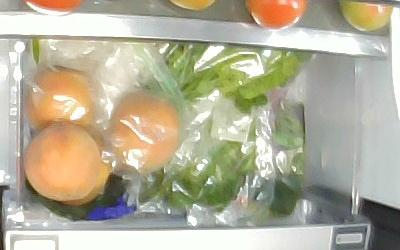peach: (22, 123, 102, 201)
peach_vinyl: (108, 94, 180, 174), (26, 70, 100, 133)
